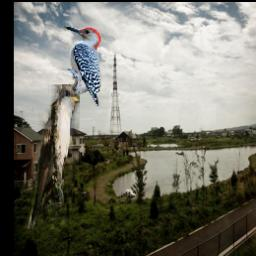Cuckoo: (27, 84, 81, 229)
Woodpecker: (46, 22, 106, 113)
